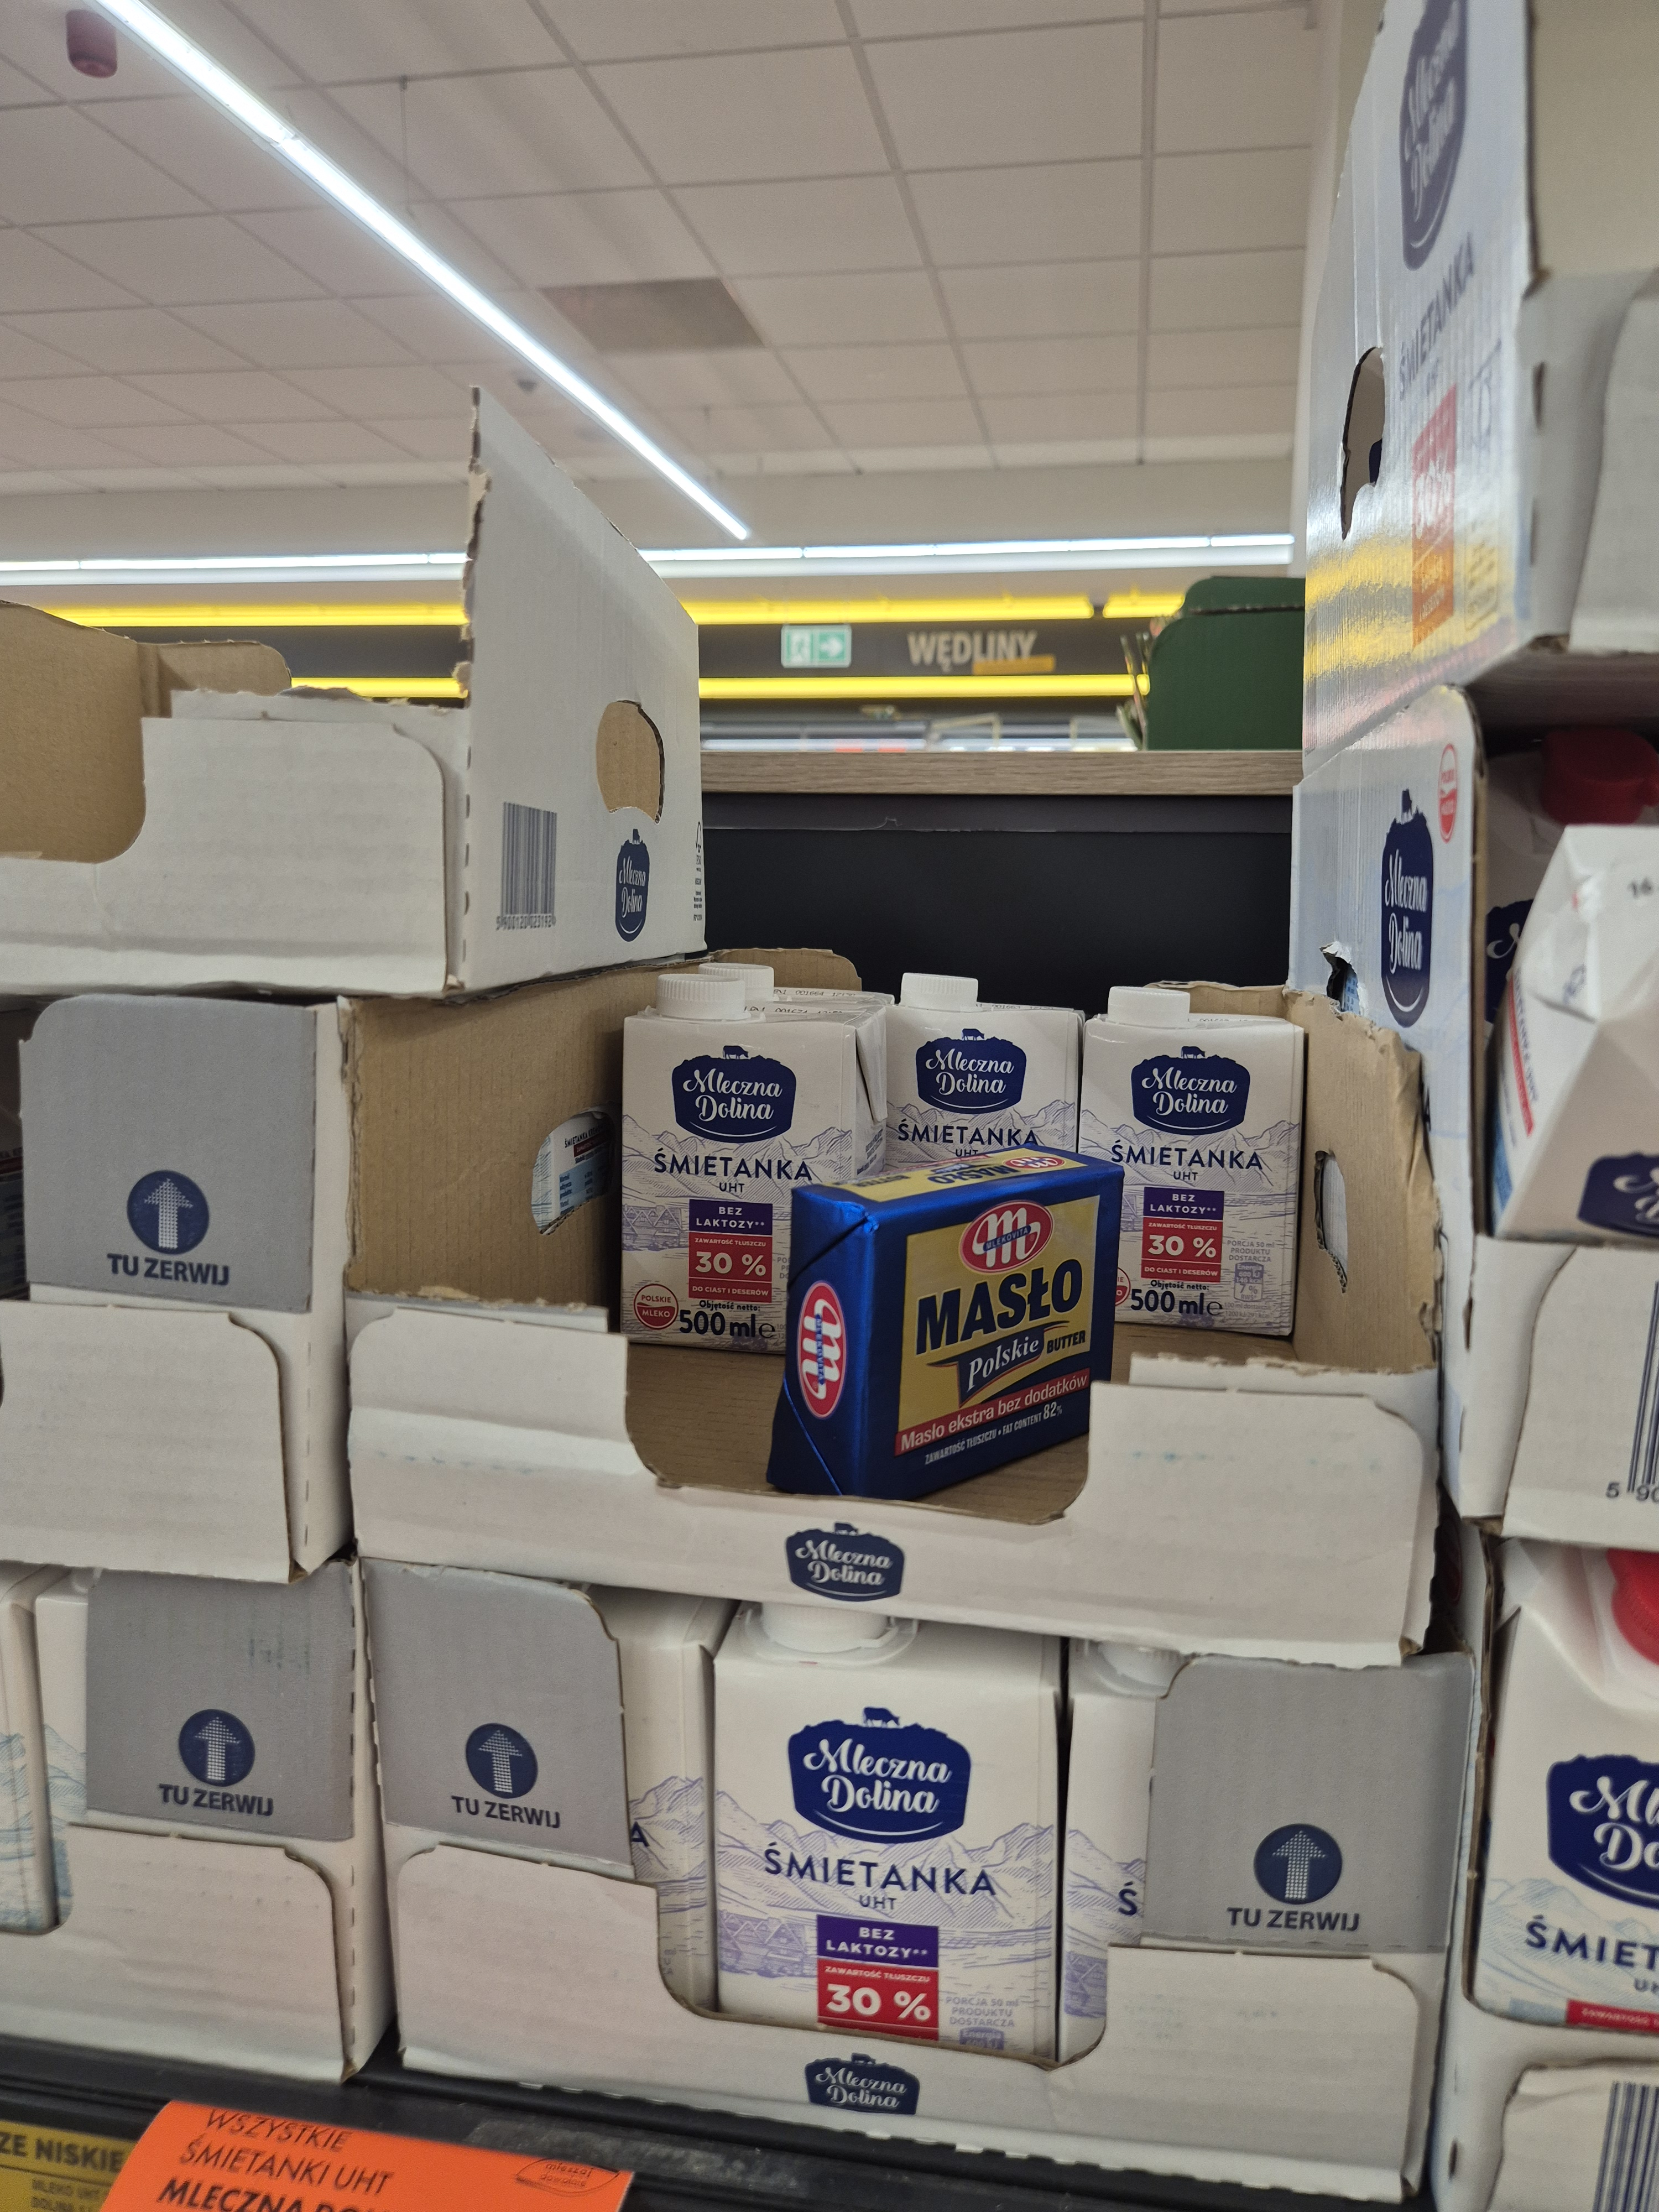Butter: (800, 1127, 1152, 1510)
